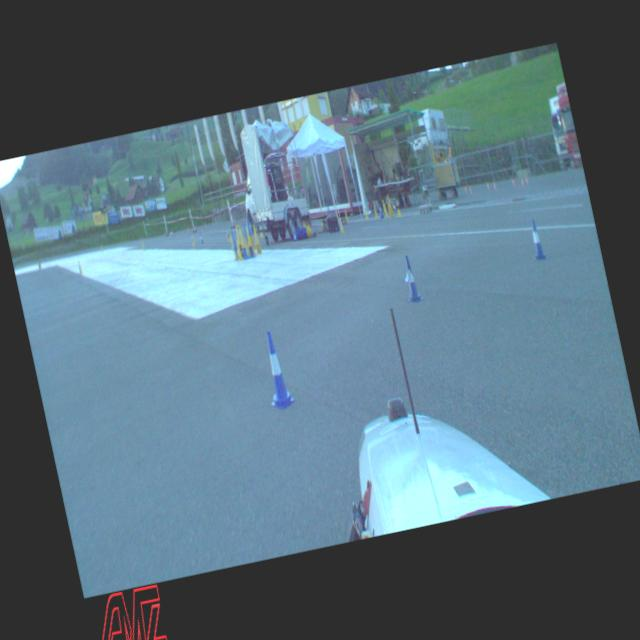blue_cone: (256, 328, 296, 411), (398, 253, 422, 302), (526, 218, 546, 260)
